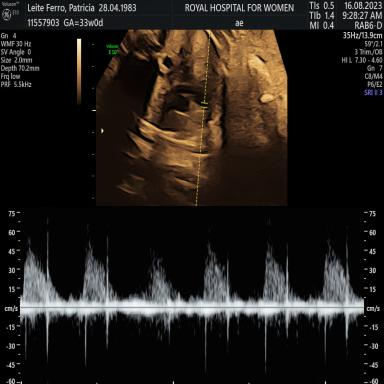Ultrasound-Waves: (28, 216, 361, 384)
